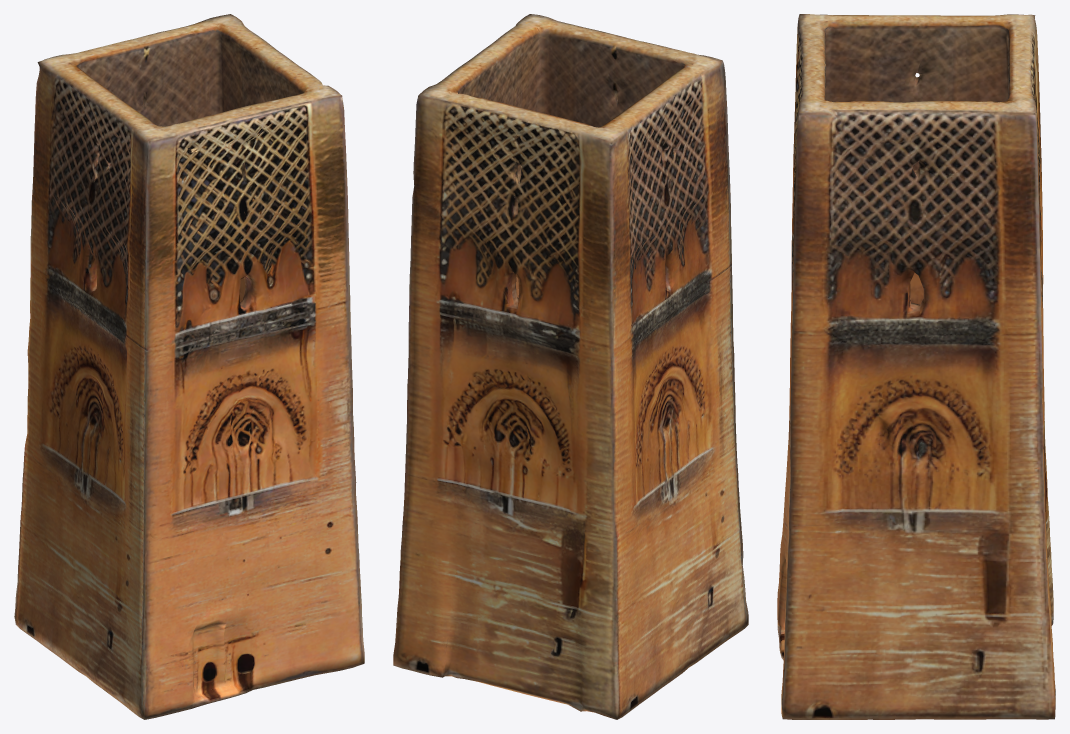
Rendered from hassan_tower.glb.
3 renders of one model, left to right at view 1: azimuth 30°, elevation 25°; view 2: azimuth 150°, elevation 25°; view 3: azimuth 270°, elevation 25°, orthographic. The views are drawn at different scales.
Parts seen in each view (by area): view 1: Mesh1_Mesh1.015; view 2: Mesh1_Mesh1.015; view 3: Mesh1_Mesh1.015.
Part boxes in pixels (bbox=[...]): Mesh1_Mesh1.015: bbox=[14, 14, 364, 719]; Mesh1_Mesh1.015: bbox=[393, 14, 748, 719]; Mesh1_Mesh1.015: bbox=[777, 14, 1055, 719].
Bounding box in the file's own units: 0.8265 × 2 × 0.8396.
Materials: 1 (1 with a texture image).
